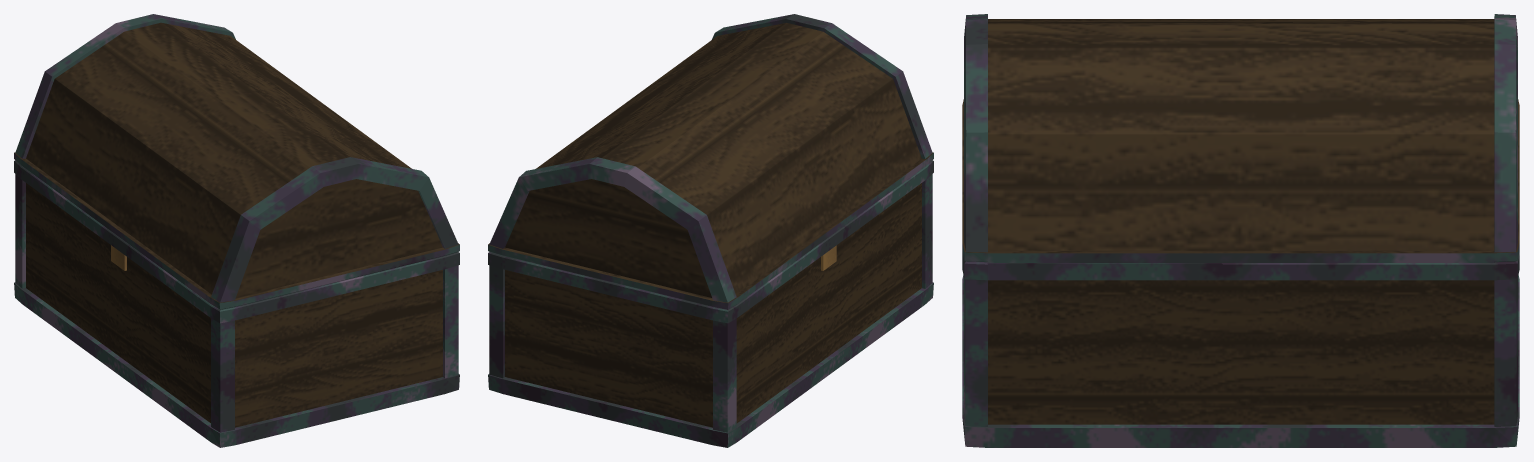
File: Truhe.fbx
3 renders of one model, left to right at view 1: azimuth 30°, elevation 25°; view 2: azimuth 150°, elevation 25°; view 3: azimuth 270°, elevation 25°, orthographic. The views are drawn at different scales.
Parts seen in each view (by area): view 1: Truhen Deckel, Truhen; view 2: Truhen Deckel, Truhen; view 3: Truhen Deckel, Truhen.
Boxes of the visible parts, bbox=[...] form: Truhen Deckel: bbox=[14, 14, 459, 309]; Truhen: bbox=[14, 160, 459, 447]; Truhen Deckel: bbox=[488, 14, 933, 309]; Truhen: bbox=[488, 160, 933, 447]; Truhen Deckel: bbox=[962, 14, 1519, 262]; Truhen: bbox=[962, 252, 1519, 447].
Bounding box in the file's own units: 59.35 × 87.89 × 59.14.
1 material, 1 textured.
